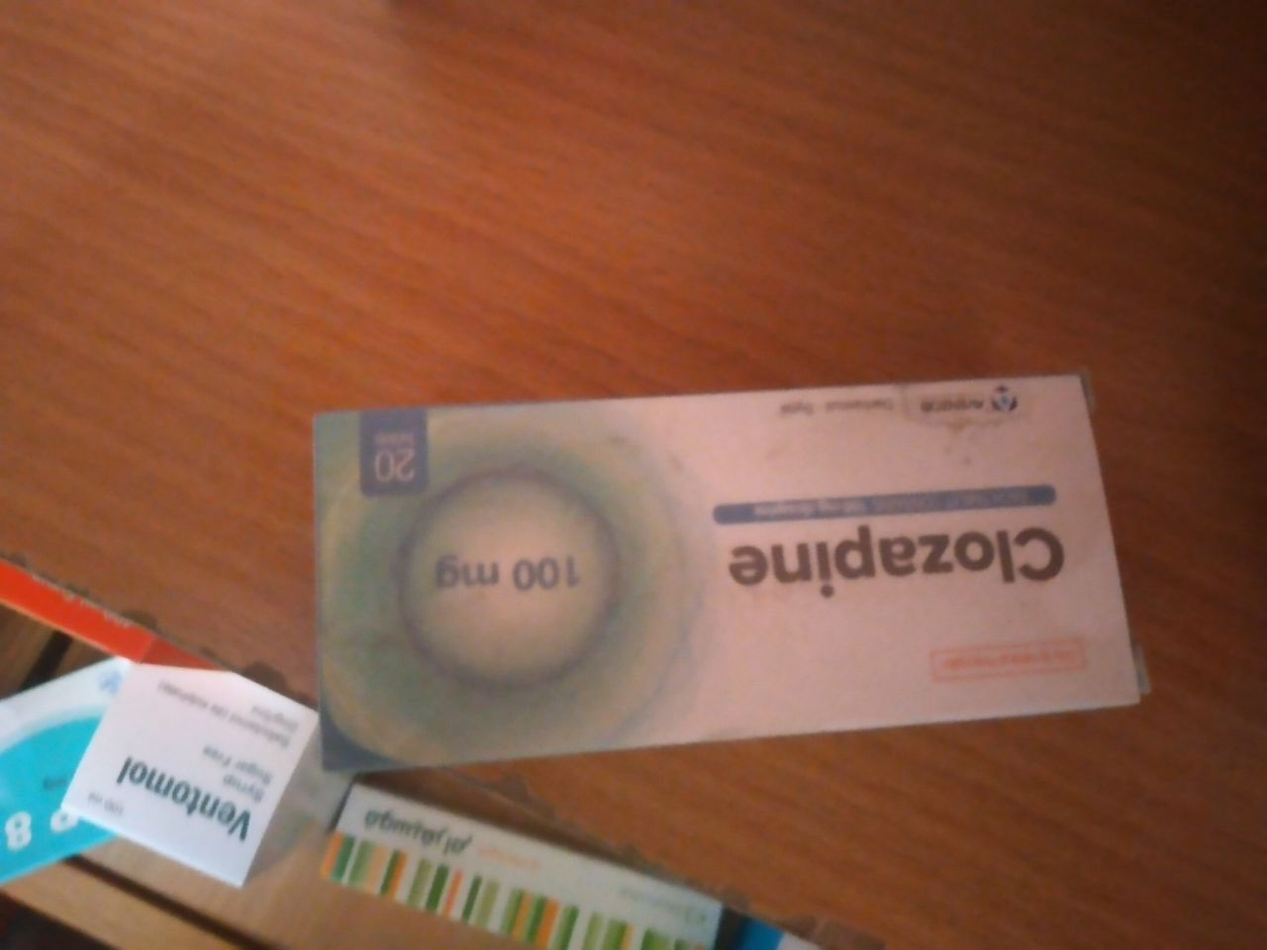Medicine: (287, 349, 1183, 807)
